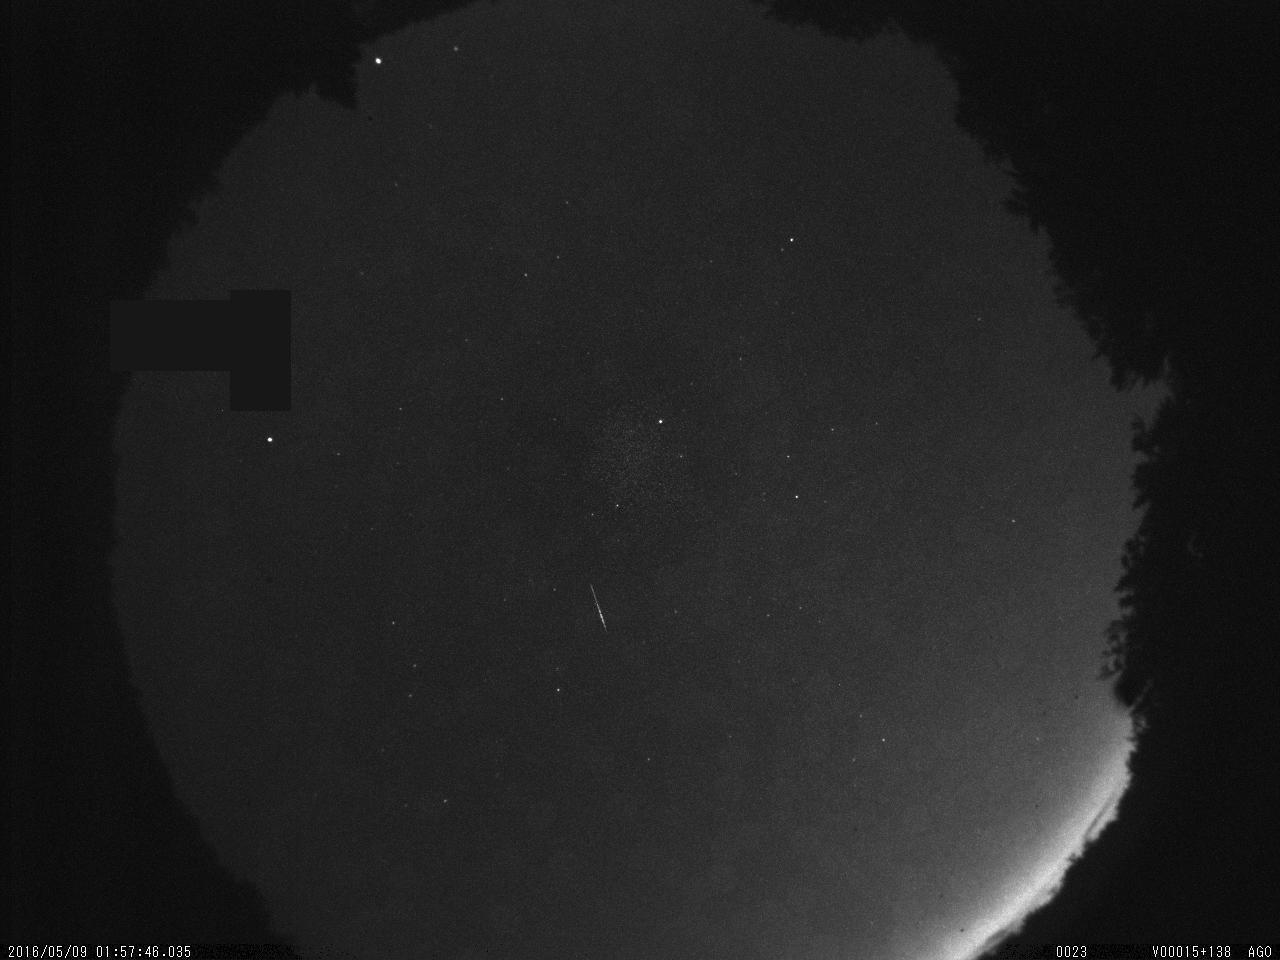Meteor: (580, 574, 621, 645)
